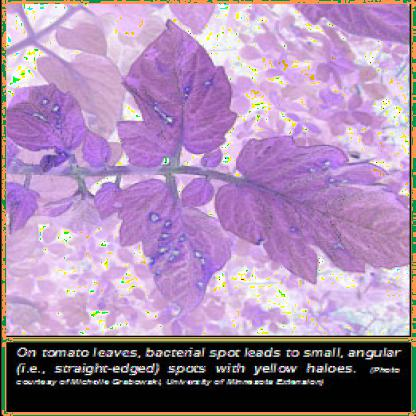tomato leaf bacterial spot: (218, 129, 410, 283), (121, 22, 250, 172), (110, 176, 231, 312), (6, 83, 94, 162)
